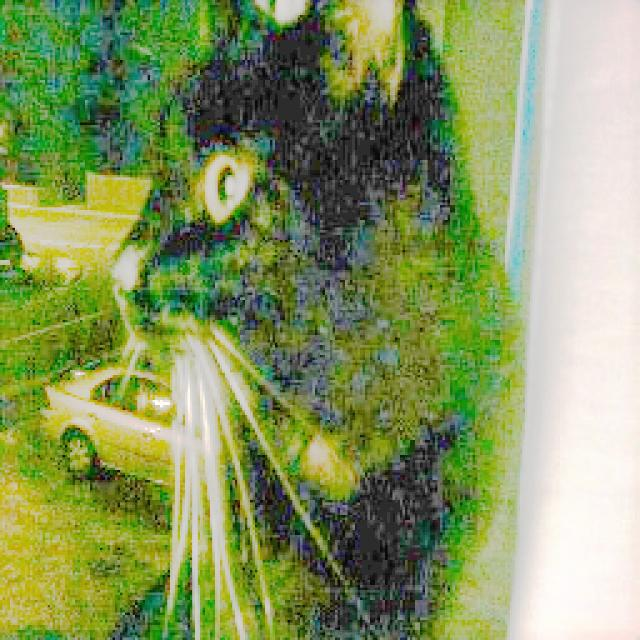cat: (115, 7, 528, 640)
